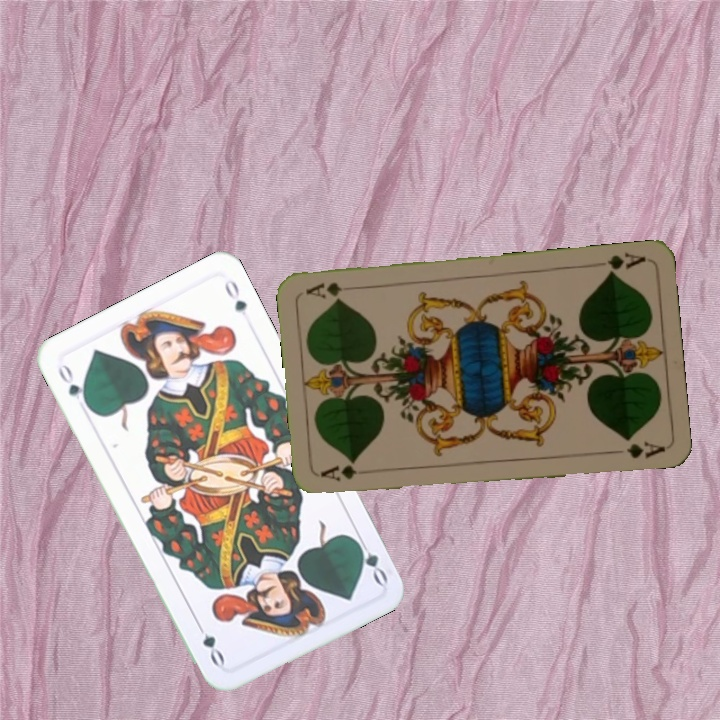GA: (603, 249, 648, 278), (317, 461, 359, 484)
GO: (349, 531, 391, 588), (54, 360, 93, 411)
